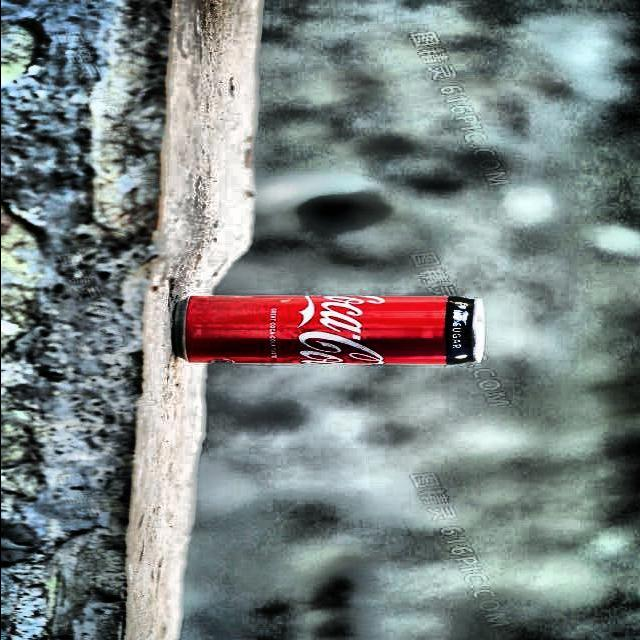Aluminum Can: (165, 290, 494, 375)
